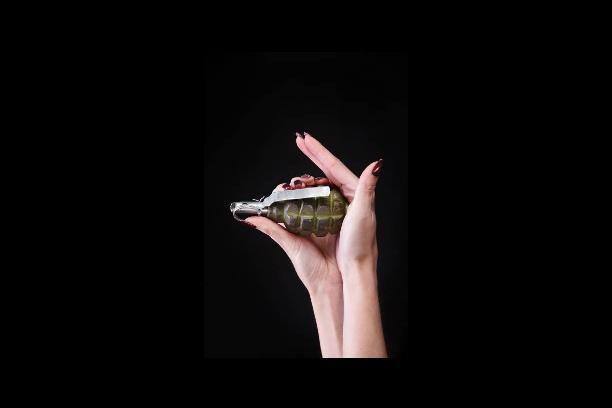Grenade: (228, 179, 346, 237)
